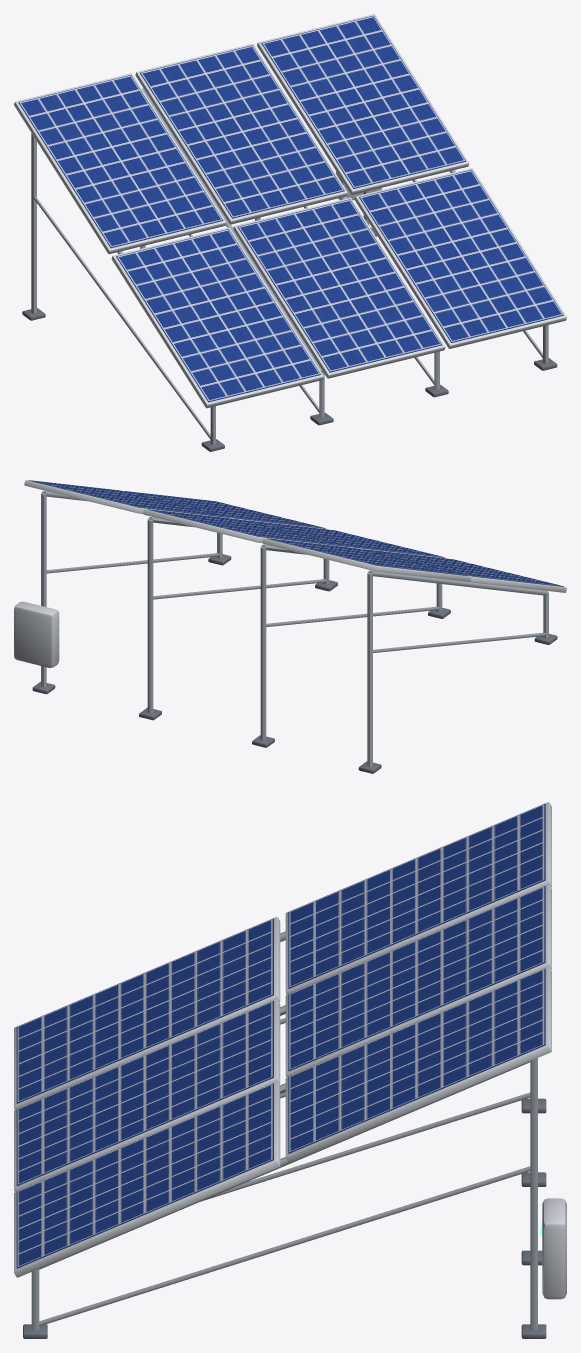
The model's file is painel_solar_telhado.glb.
The picture shows the model from 3 angles, top to bottom: view 1: azimuth 30°, elevation 25°; view 2: azimuth 150°, elevation 25°; view 3: azimuth 270°, elevation 25°; orthographic projection. The views are drawn at different scales.
Visible parts, largest first — view 1: painel_solar_telhado; view 2: painel_solar_telhado; view 3: painel_solar_telhado.
Part boxes in pixels (left/top/right/bottom): painel_solar_telhado: left=14, top=14, right=566, bottom=451; painel_solar_telhado: left=14, top=480, right=566, bottom=773; painel_solar_telhado: left=14, top=802, right=566, bottom=1338.
Bounding box in the file's own units: 2.87 × 1.6 × 2.69.
3 materials, 2 textured.
